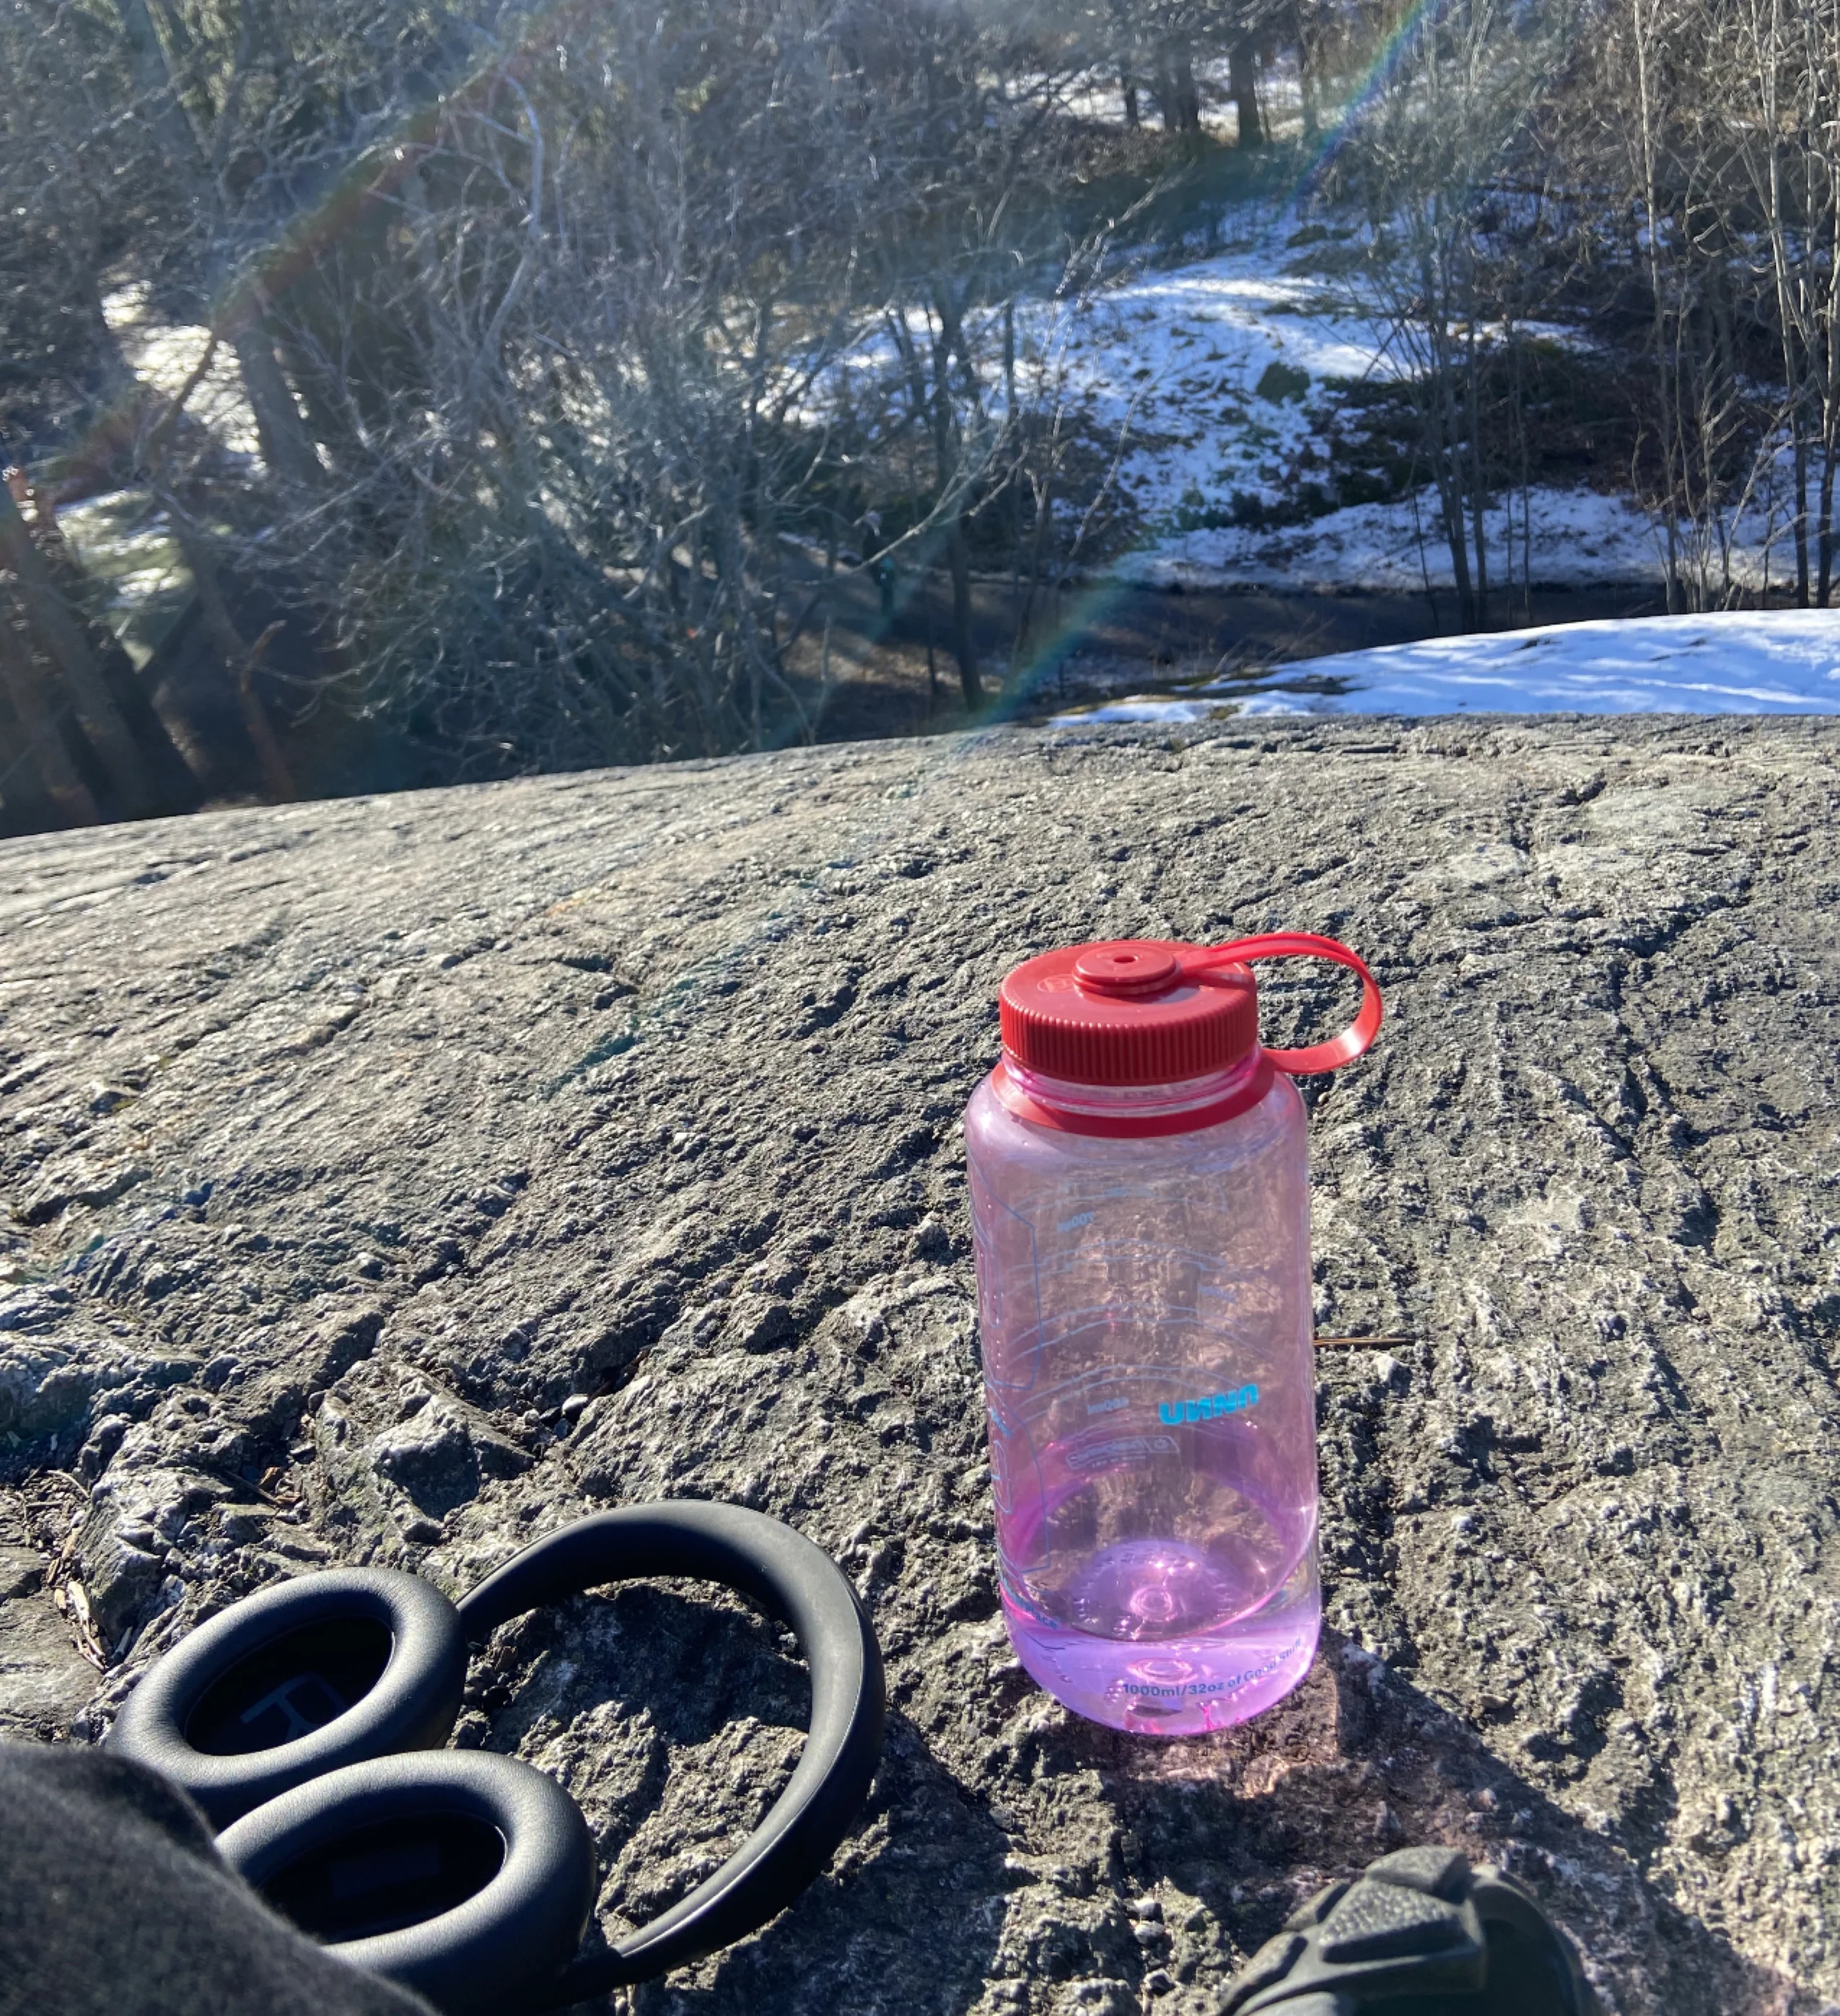waterbottle: (960, 929, 1382, 1737)
